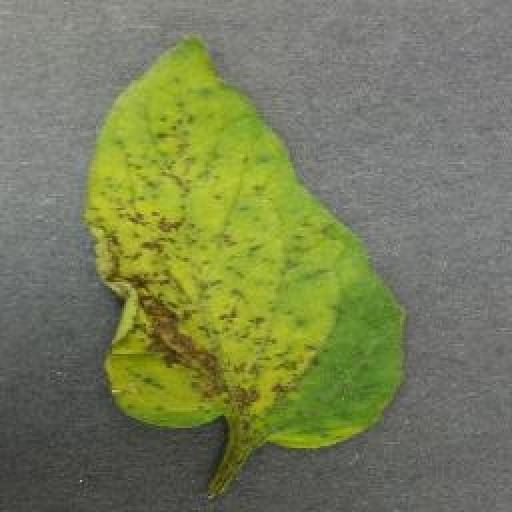Bacterial Spot: (81, 19, 408, 453)
